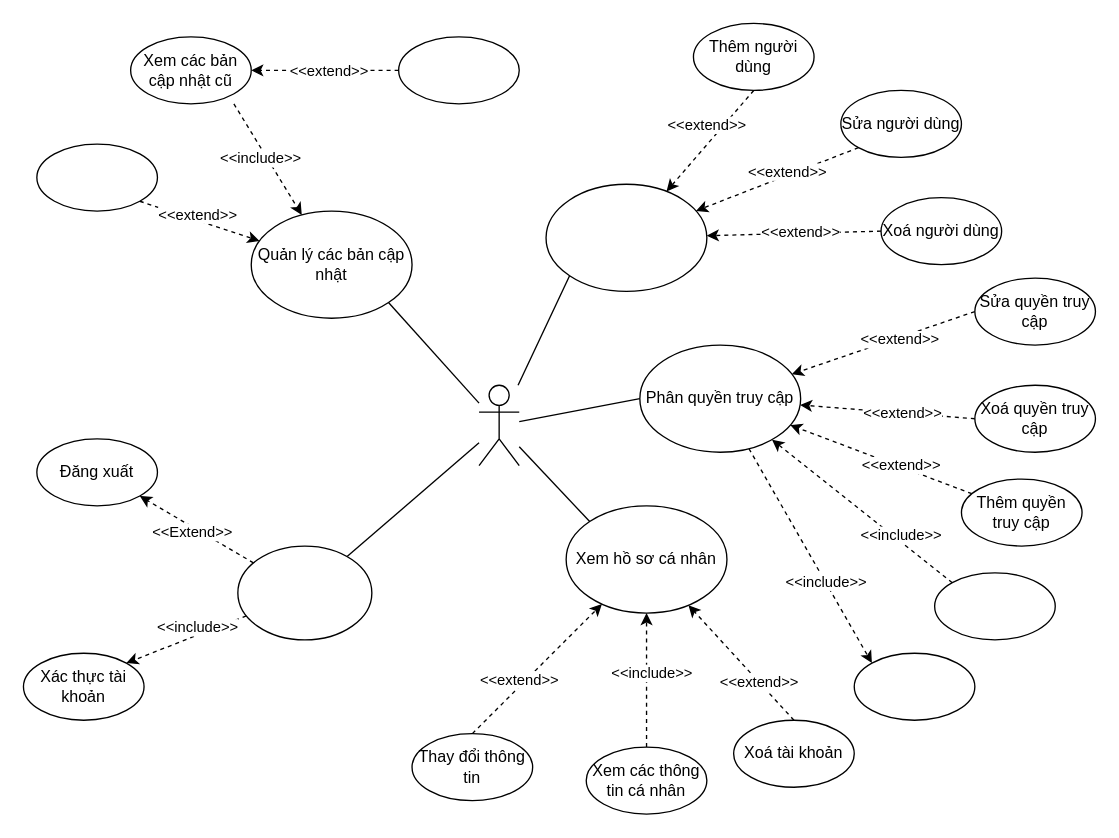
This 1119x838 diagram has some shape labels left out. The centre of each missing label's shape, as x and y in pixels:
Quản lý người dùng: pixel 626 237
Quản trị viên: pixel 498 425
Thêm bản cập nhật mới: pixel 96 177
Tìm kiếm tài khoản: pixel 994 606
Xem các quyền truy cập: pixel 914 686
Xoá bản cập nhật: pixel 458 70
Đăng nhập: pixel 304 592
